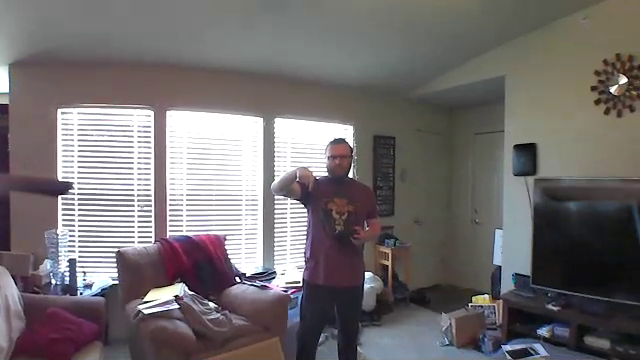down: (291, 164, 314, 194)
